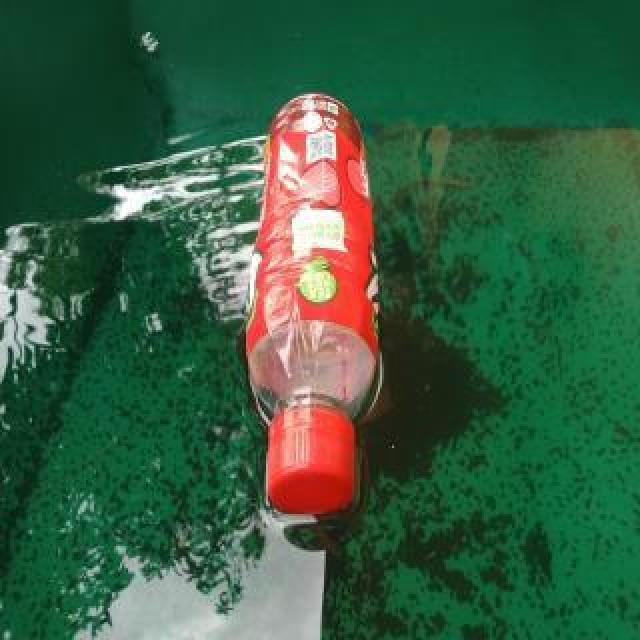bottle: (243, 91, 381, 521)
